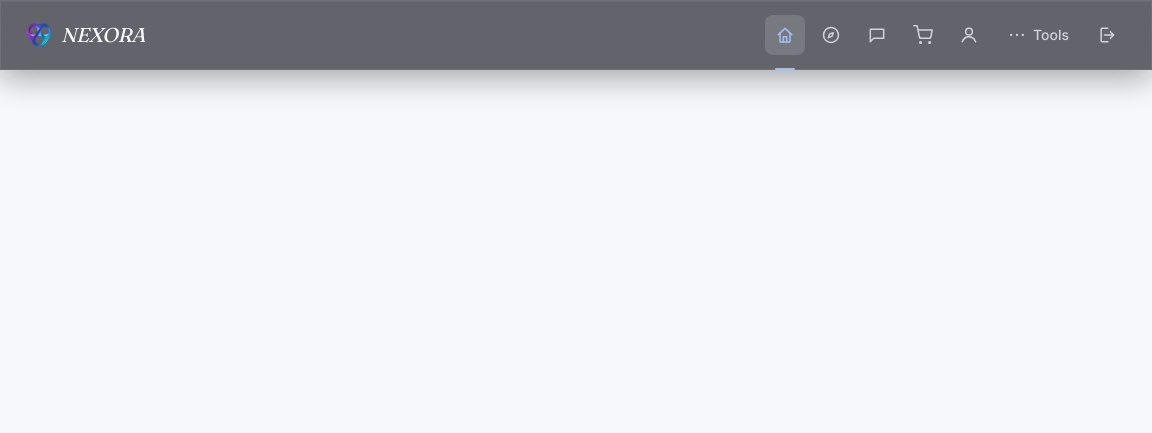
Header nav links (A2 audit) › surfaces Returns for a signed-in buyer via the Tools menu
Click the button with aria-label "More tools".
click(1038, 35)  # box x1=995 y1=15 x2=1081 y2=55
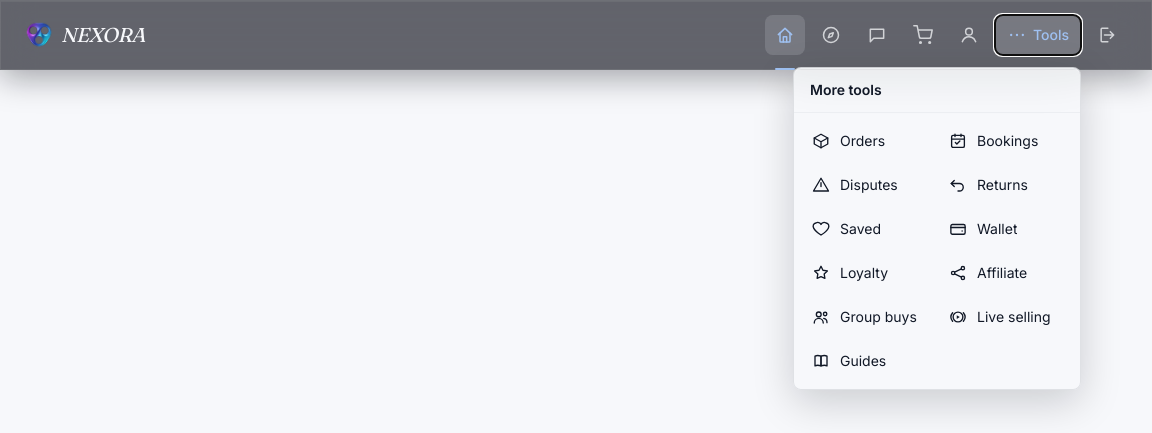
Expected: the link "Returns" is shown, x1=949 y1=176 x2=1028 y2=194
